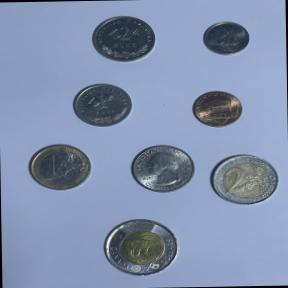coin: (99, 215, 184, 279), (205, 150, 283, 208), (23, 140, 96, 196), (127, 140, 199, 195), (88, 14, 159, 66), (188, 88, 247, 130), (198, 17, 254, 60)
